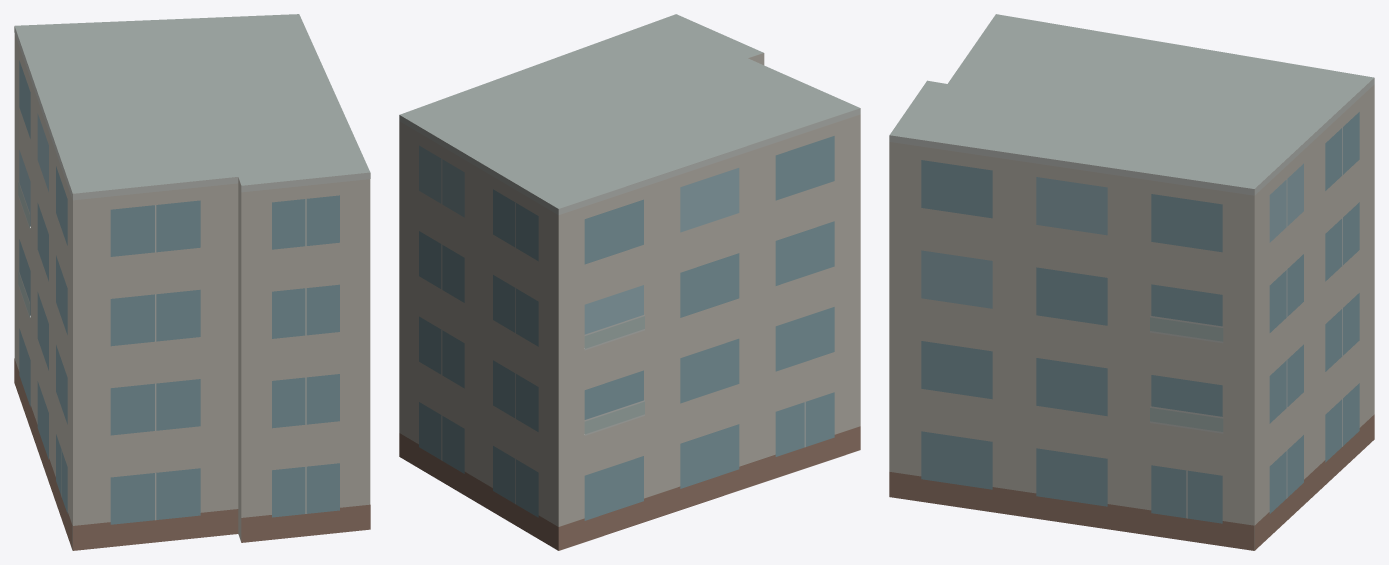
The model's file is survey-upis-33017677.glb.
3 views of the same model, side by side, from view 1: azimuth 30°, elevation 25°; view 2: azimuth 150°, elevation 25°; view 3: azimuth 270°, elevation 25° (orthographic). The views are drawn at different scales.
Parts seen in each view (by area): view 1: survey-upis-33017677.tmp; view 2: survey-upis-33017677.tmp; view 3: survey-upis-33017677.tmp.
Part boxes in pixels (x1,y1,x2,y2): survey-upis-33017677.tmp: (14,14,370,550); survey-upis-33017677.tmp: (399,14,860,550); survey-upis-33017677.tmp: (889,14,1374,550).
Size of the model in its own units: 13.81 by 13.3 by 16.17.
